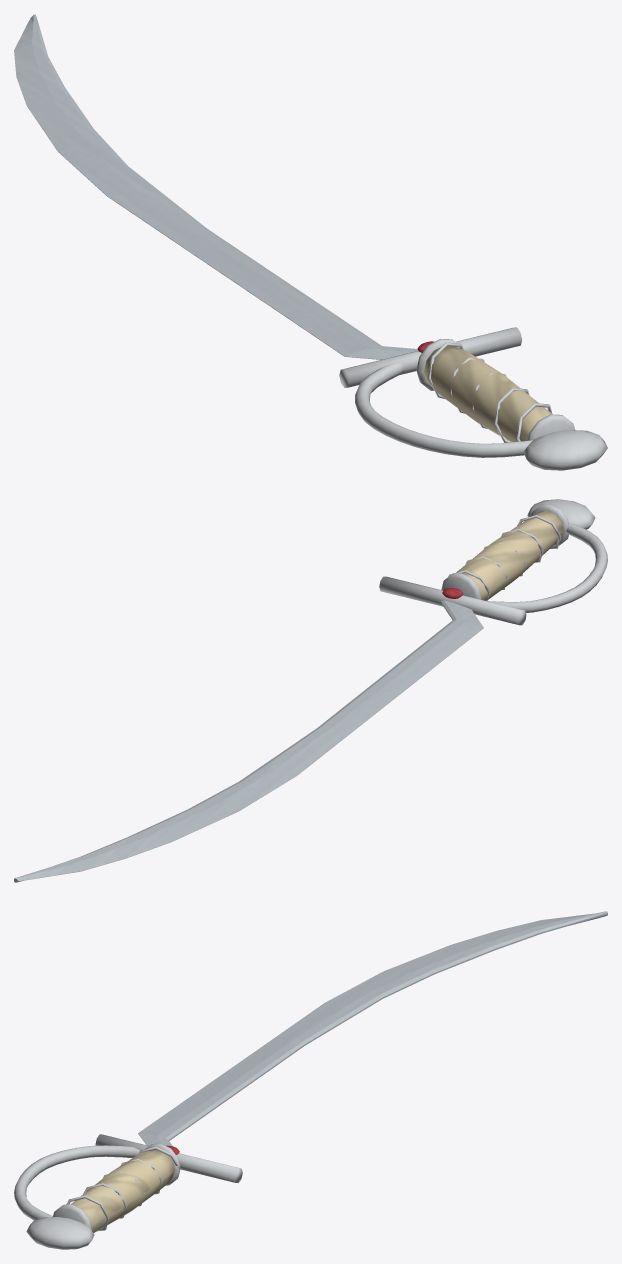
Rendered from item_cutlass1.glb.
3 views of the same model, one above another, from view 1: azimuth 30°, elevation 25°; view 2: azimuth 150°, elevation 25°; view 3: azimuth 330°, elevation 25° (orthographic). The views are drawn at different scales.
Visible parts, largest first — view 1: swords_cutlass1; view 2: swords_cutlass1; view 3: swords_cutlass1.
Part boxes in pixels (x1,y1,x2,y2): swords_cutlass1: (14,14,607,470); swords_cutlass1: (14,499,607,882); swords_cutlass1: (14,911,607,1249).
Size of the model in its own units: 0.258 by 0.068 by 1.38.
Materials: 1 (1 with a texture image).
